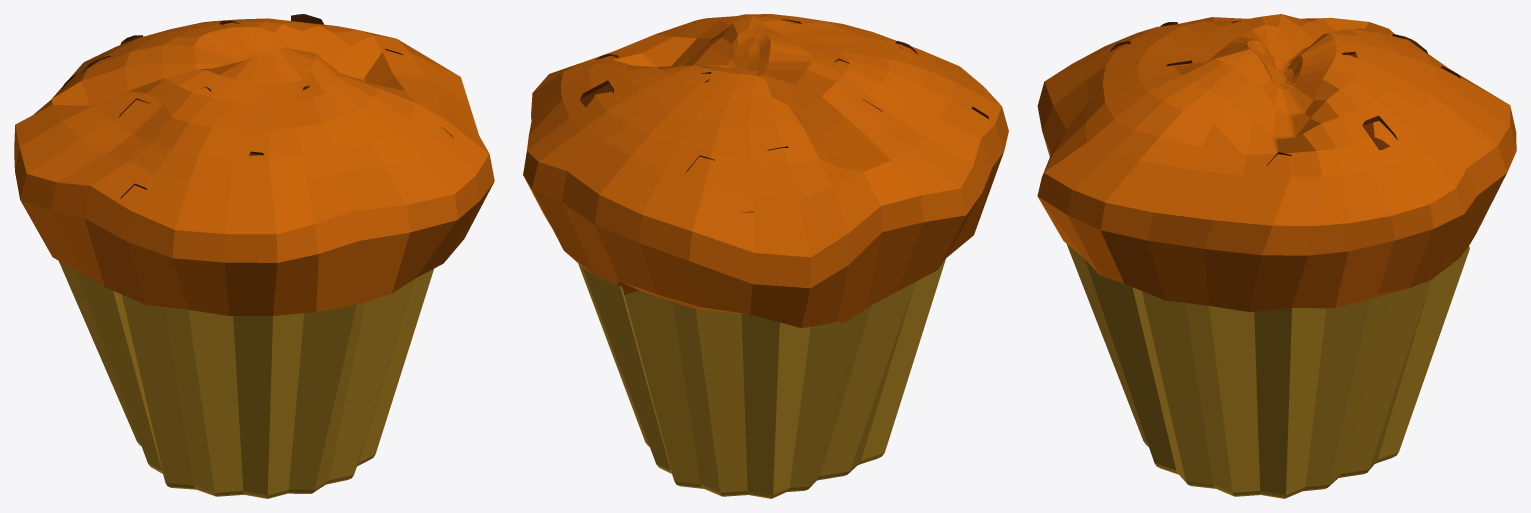
The model's file is MuffinChocolate1.fbx.
The picture shows the model from 3 angles, left to right: view 1: azimuth 30°, elevation 25°; view 2: azimuth 150°, elevation 25°; view 3: azimuth 270°, elevation 25°; orthographic projection.
Parts seen in each view (by area): view 1: MuffinChocolate1; view 2: MuffinChocolate1; view 3: MuffinChocolate1.
Boxes of the visible parts, left/top/right/bottom form: MuffinChocolate1: left=14, top=14, right=494, bottom=498; MuffinChocolate1: left=523, top=14, right=1008, bottom=498; MuffinChocolate1: left=1037, top=14, right=1516, bottom=498.
Bounding box in the file's own units: 103 × 93.26 × 97.57.
